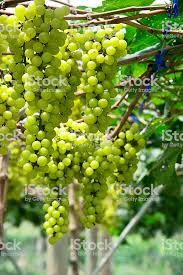grapes: (17, 4, 58, 179), (76, 142, 129, 232), (74, 35, 119, 134), (39, 197, 76, 245)
